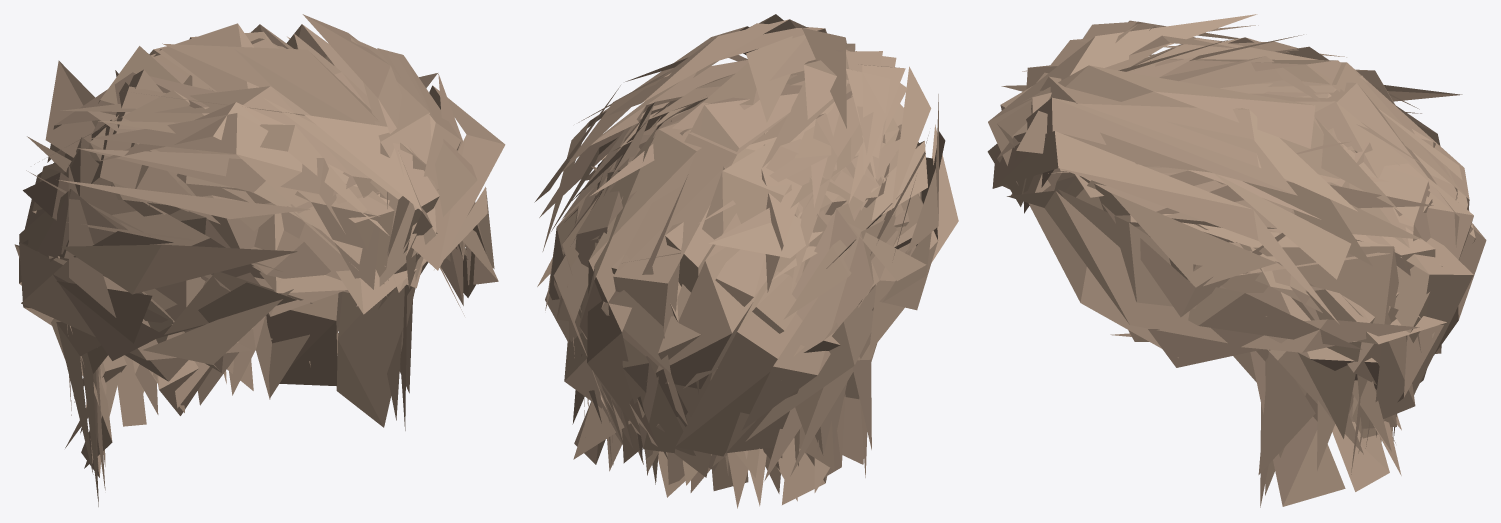
File: male_hair_11_lod2.glb
3 renders of one model, left to right at view 1: azimuth 30°, elevation 25°; view 2: azimuth 150°, elevation 25°; view 3: azimuth 270°, elevation 25°, orthographic. The views are drawn at different scales.
Visible parts, largest first — view 1: hair_11; view 2: hair_11; view 3: hair_11.
Boxes of the visible parts, box(x1,y1,x2,y2) form: hair_11: box(14, 14, 505, 506); hair_11: box(534, 14, 958, 508); hair_11: box(987, 14, 1486, 507).
Bounding box in the file's own units: 0.1788 × 0.1923 × 0.2183.
